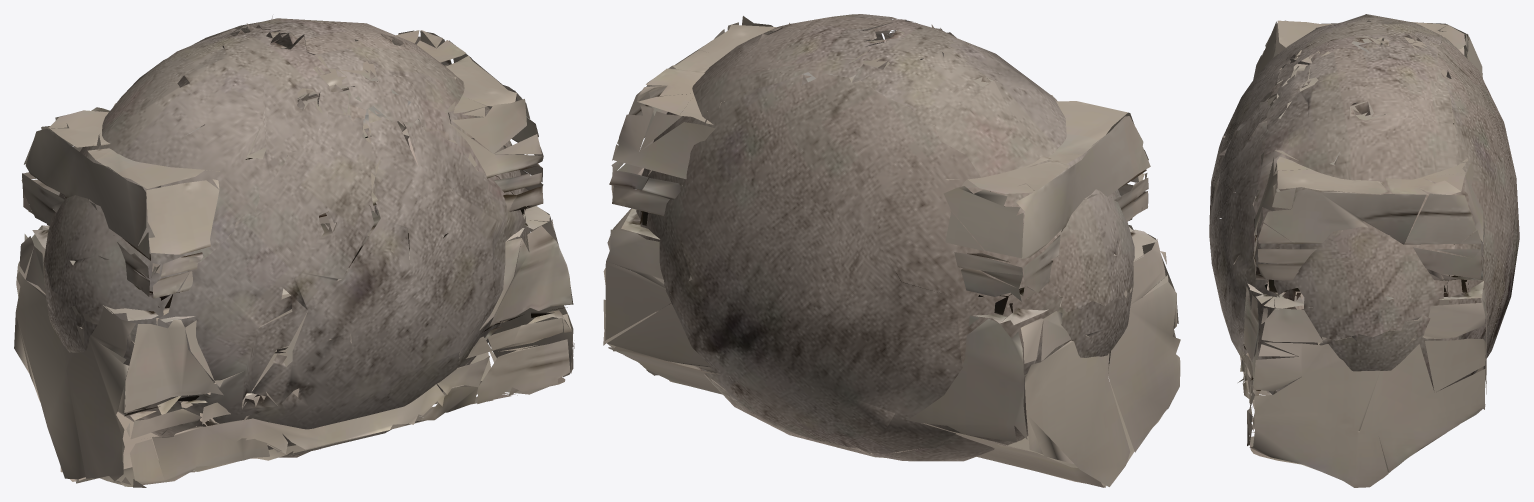
The model's file is rocks.glb.
3 views of the same model, side by side, from view 1: azimuth 30°, elevation 25°; view 2: azimuth 150°, elevation 25°; view 3: azimuth 270°, elevation 25° (orthographic). The views are drawn at different scales.
Visible parts, largest first — view 1: ROCK_A, ROCK_B; view 2: ROCK_A, ROCK_B; view 3: ROCK_A, ROCK_B.
Boxes of the visible parts, x1,y1,x2,y2 form: ROCK_A: (43, 16, 530, 457); ROCK_B: (14, 30, 574, 487); ROCK_A: (636, 14, 1134, 461); ROCK_B: (603, 16, 1180, 487); ROCK_A: (1209, 14, 1519, 395); ROCK_B: (1238, 20, 1487, 487).
Bounding box in the file's own units: 1.01 × 0.8391 × 0.6618.
Materials: 2 (2 with a texture image).
